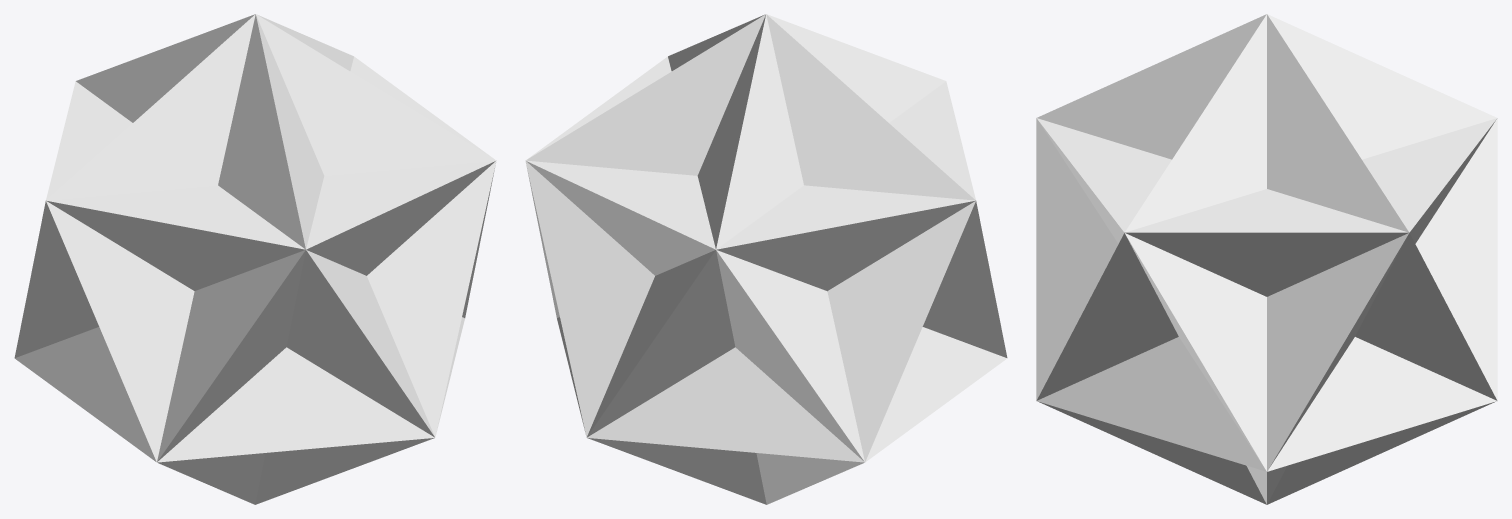
The model's file is great-dodecahedron.gltf.
The picture shows the model from 3 angles, left to right: view 1: azimuth 30°, elevation 25°; view 2: azimuth 150°, elevation 25°; view 3: azimuth 270°, elevation 25°; orthographic projection.
Visible parts, largest first — view 1: Great Dodecahedron ((5.5.5.5.5)/2), W21, p39; view 2: Great Dodecahedron ((5.5.5.5.5)/2), W21, p39; view 3: Great Dodecahedron ((5.5.5.5.5)/2), W21, p39.
Part boxes in pixels (left/top/right/bottom): Great Dodecahedron ((5.5.5.5.5)/2), W21, p39: left=14, top=14, right=496, bottom=504; Great Dodecahedron ((5.5.5.5.5)/2), W21, p39: left=525, top=14, right=1007, bottom=504; Great Dodecahedron ((5.5.5.5.5)/2), W21, p39: left=1036, top=14, right=1497, bottom=504.
Bounding box in the file's own units: 23.74 × 26.56 × 22.59.
Materials: 1 (1 with a texture image).
